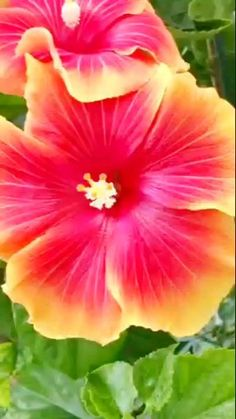Hibiscus: (1, 67, 236, 341), (3, 2, 207, 102)
